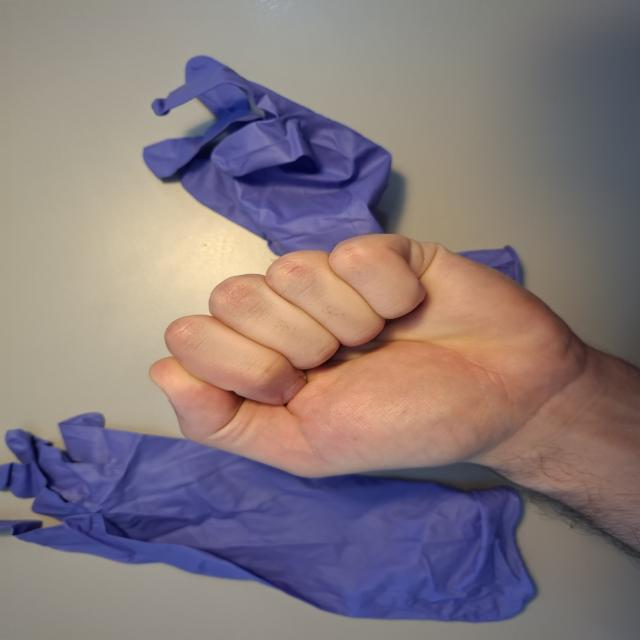glove_off: (143, 230, 588, 499)
